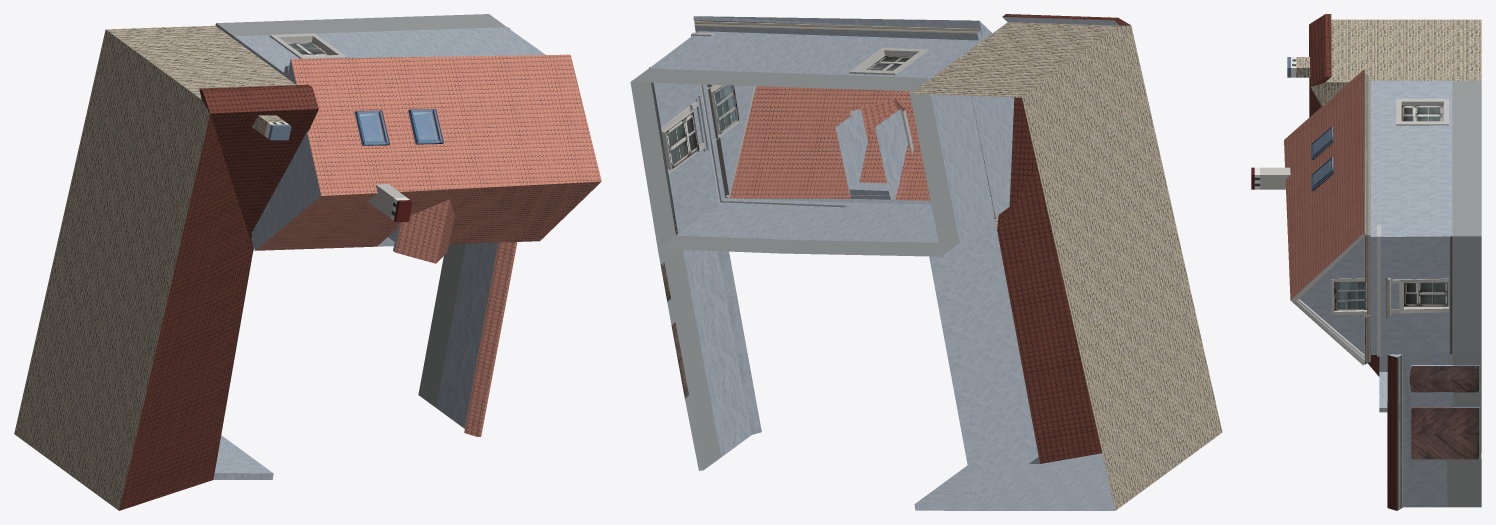
File: Uus_35_2.obj
The picture shows the model from 3 angles, left to right: view 1: azimuth 30°, elevation 25°; view 2: azimuth 150°, elevation 25°; view 3: azimuth 270°, elevation 25°; orthographic projection. The views are drawn at different scales.
Visible parts, largest first — view 1: Uus_35_2; view 2: Uus_35_2; view 3: Uus_35_2.
Boxes of the visible parts, left/top/right/bottom form: Uus_35_2: left=14, top=14, right=601, bottom=510; Uus_35_2: left=630, top=14, right=1222, bottom=510; Uus_35_2: left=1251, top=14, right=1481, bottom=510.
Size of the model in its own units: 17.62 by 15.7 by 8.89.
